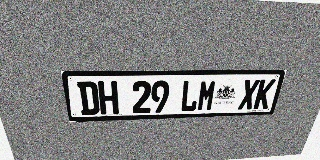2: (132, 81, 151, 113)
9: (151, 80, 170, 113)
D: (77, 81, 100, 115)
H: (98, 81, 119, 115)
K: (253, 79, 276, 109)
L: (180, 80, 200, 112)
M: (196, 80, 217, 111)
X: (237, 79, 260, 110)
